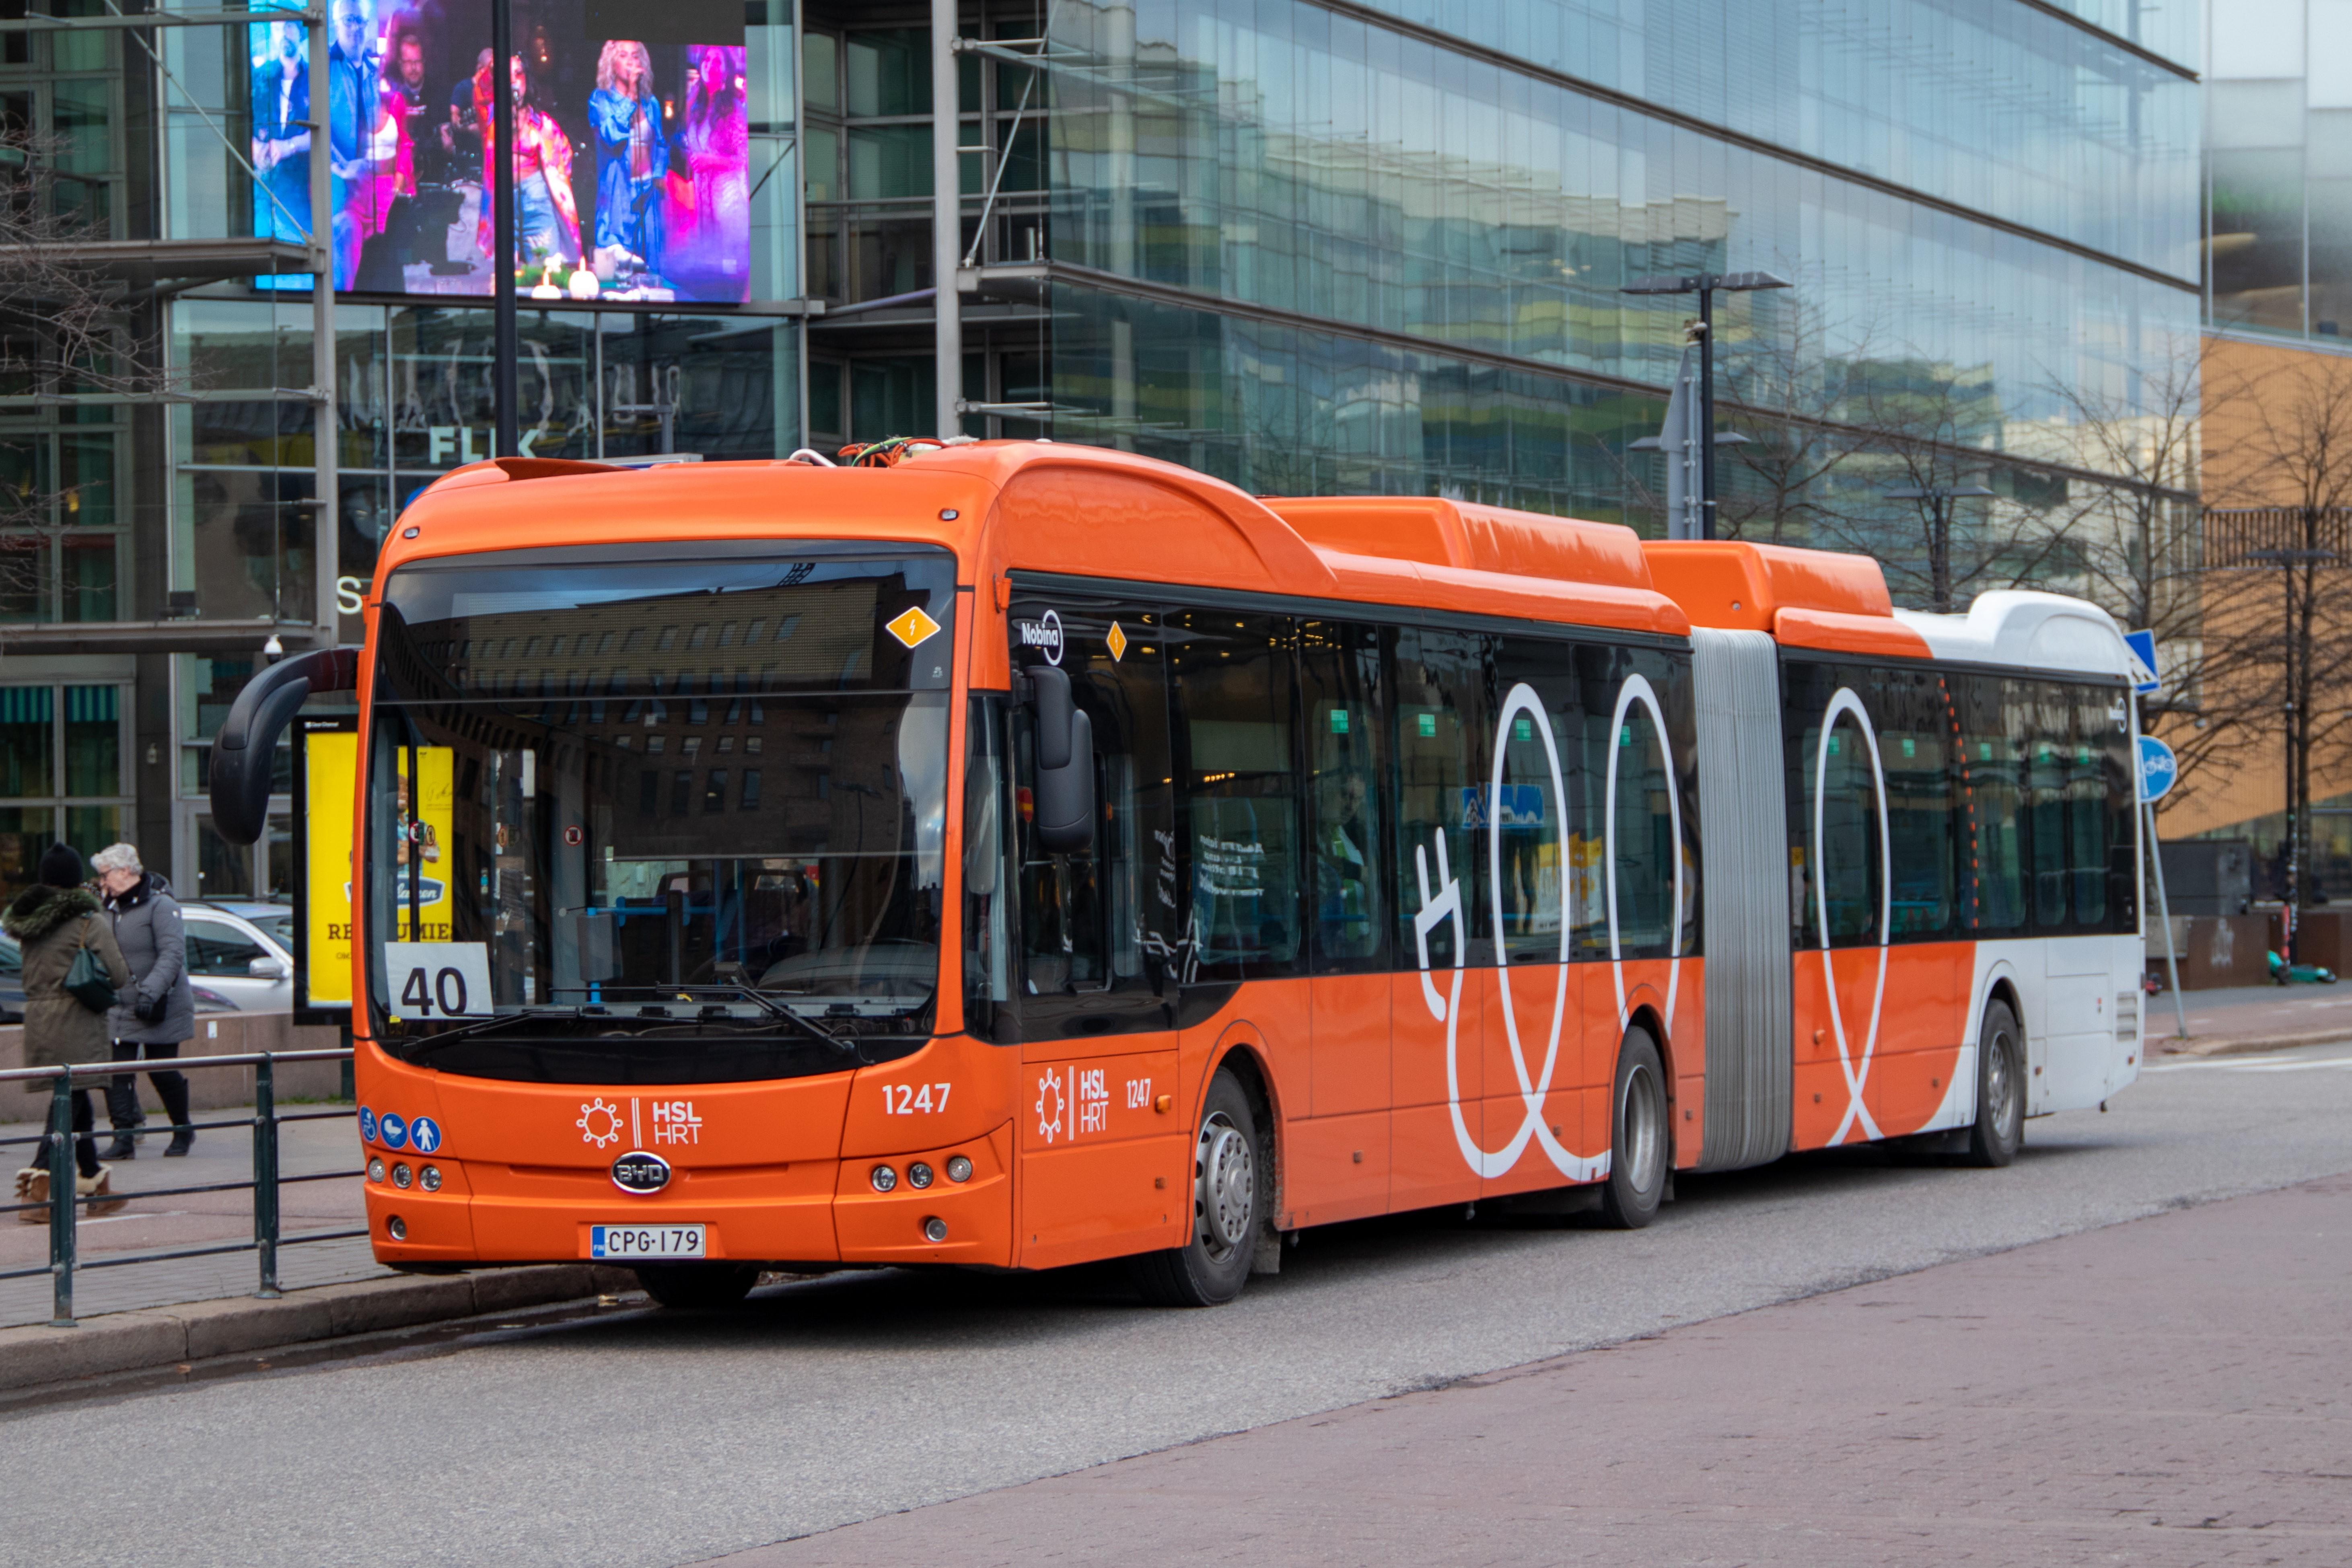bus: (206, 430, 2158, 1311)
